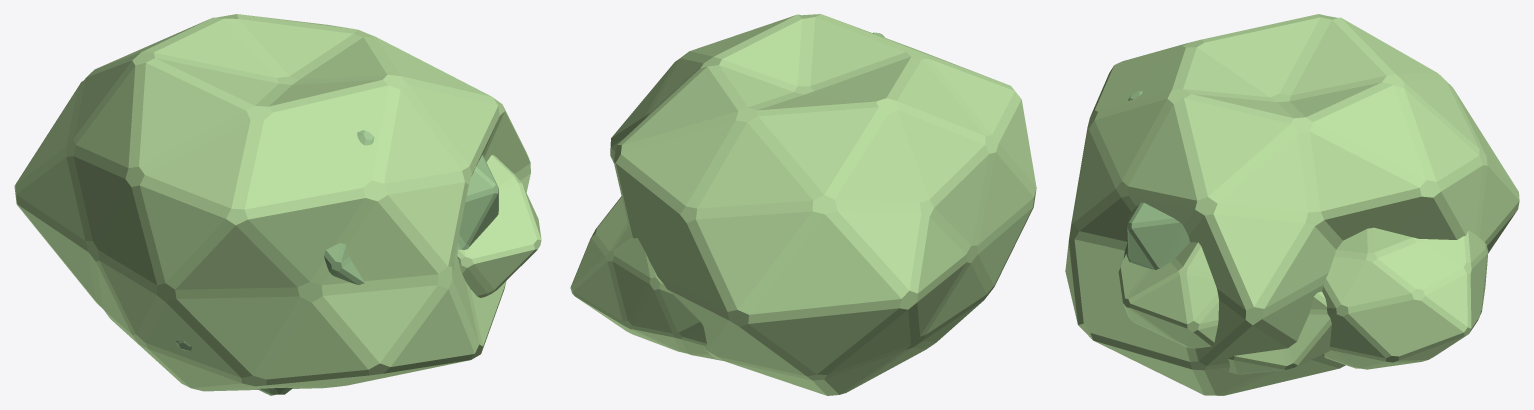
The model's file is Veg_Bush_A.fbx.
3 renders of one model, left to right at view 1: azimuth 30°, elevation 25°; view 2: azimuth 150°, elevation 25°; view 3: azimuth 270°, elevation 25°, orthographic. The views are drawn at different scales.
Parts seen in each view (by area): view 1: Veg_Bush_A; view 2: Veg_Bush_A; view 3: Veg_Bush_A.
Part boxes in pixels (x1=…): Veg_Bush_A: x1=14, y1=14, x2=541, y2=395; Veg_Bush_A: x1=570, y1=14, x2=1036, y2=395; Veg_Bush_A: x1=1065, y1=14, x2=1519, y2=395.
Size of the model in its own units: 1.48 by 1.1 by 1.5.
